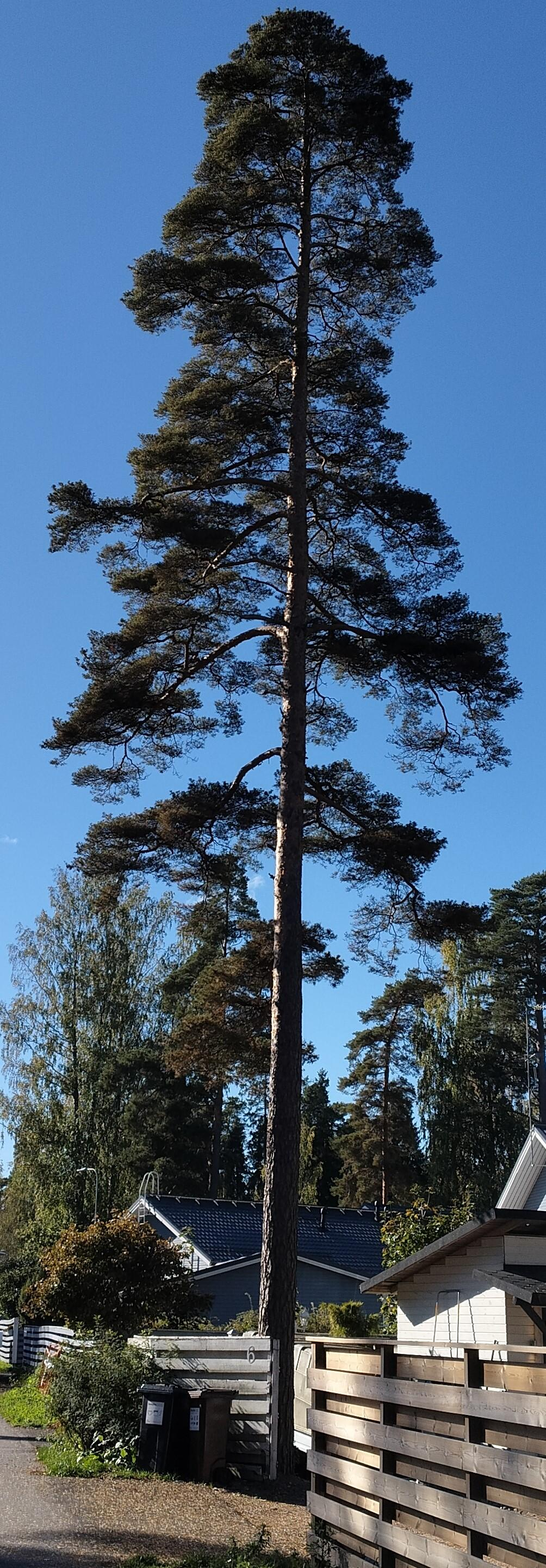Pine: (97, 6, 515, 1258)
